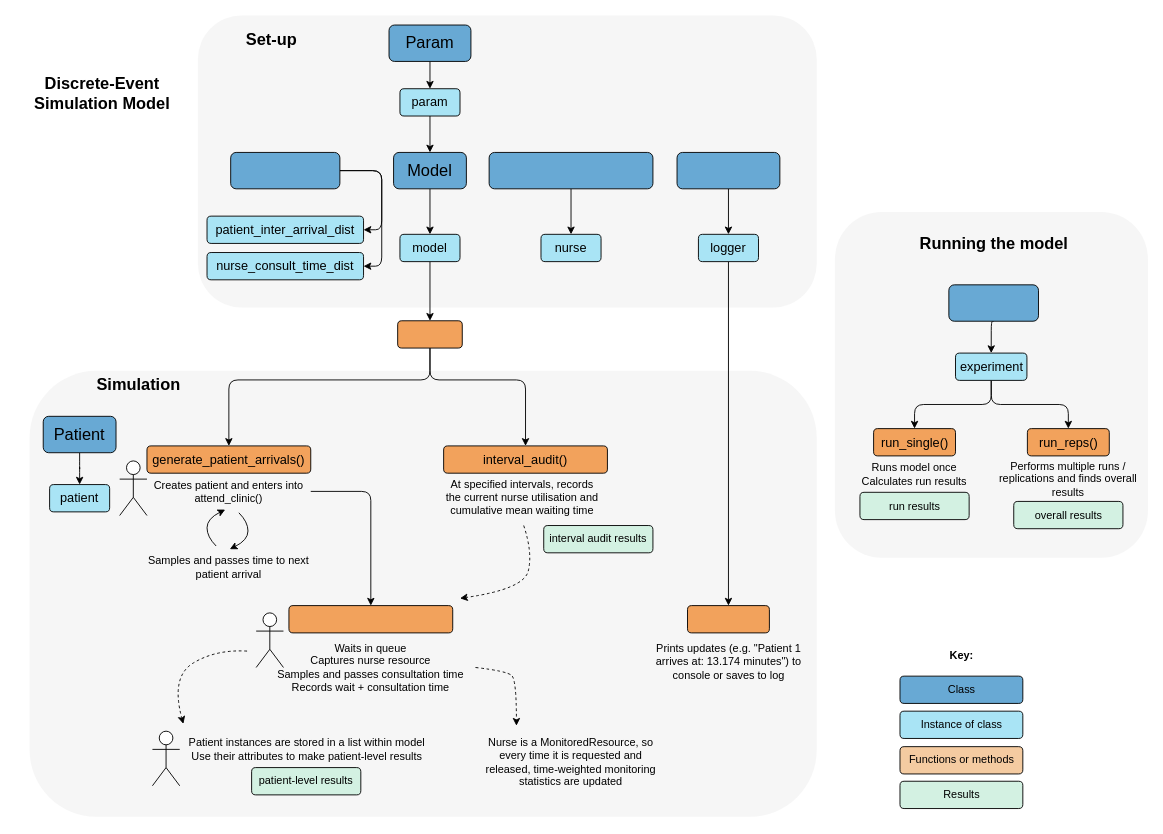
Some shapes in this 1163 by 834 pixel diagram are drawn without their labels. The shapes that lost their labels are listed below. From the top down, each one's box as (x1, y1, x2, y2) in pixels, then its label:
(230, 152, 340, 189): Exponential
(488, 152, 653, 189): MonitoredResource
(676, 152, 780, 189): SimLogger
(948, 284, 1038, 321): Runner
(397, 320, 462, 348): run()
(288, 605, 453, 633): attend_clinic()
(687, 605, 769, 633): log()
